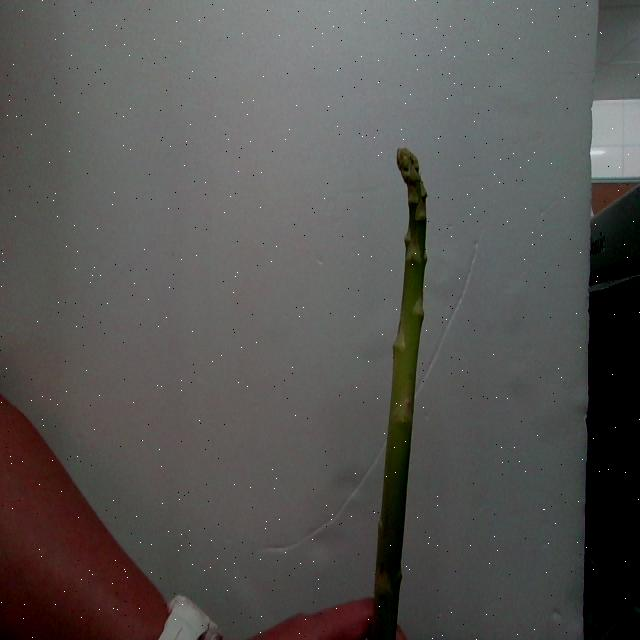aspargus: (366, 149, 428, 640)
